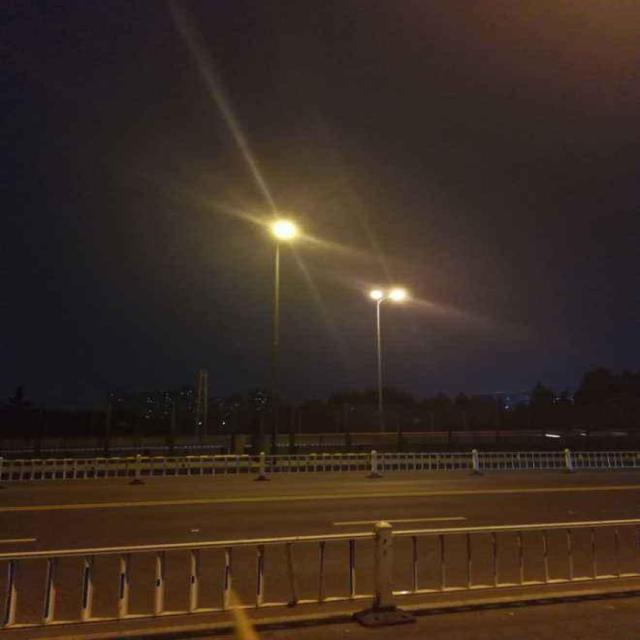other: (250, 206, 318, 256), (354, 272, 420, 306)
